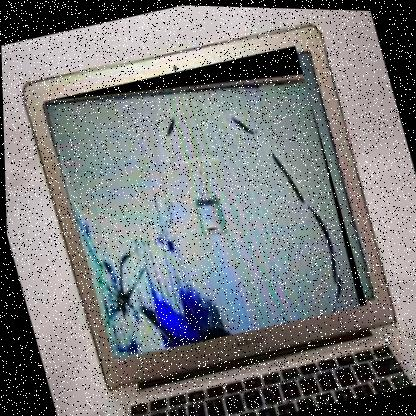crack: (41, 38, 368, 367)
